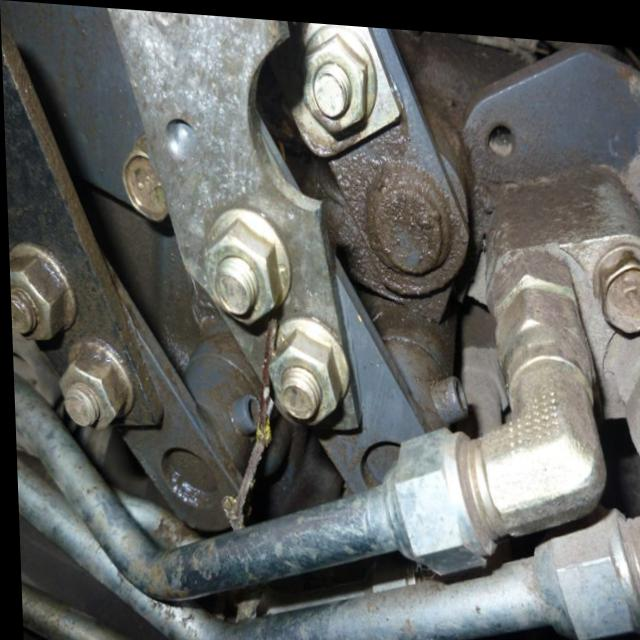Regular bolt: (201, 211, 284, 327), (300, 27, 374, 132), (266, 333, 340, 428), (55, 345, 123, 434), (8, 249, 67, 343), (592, 234, 640, 329), (119, 140, 169, 225)
